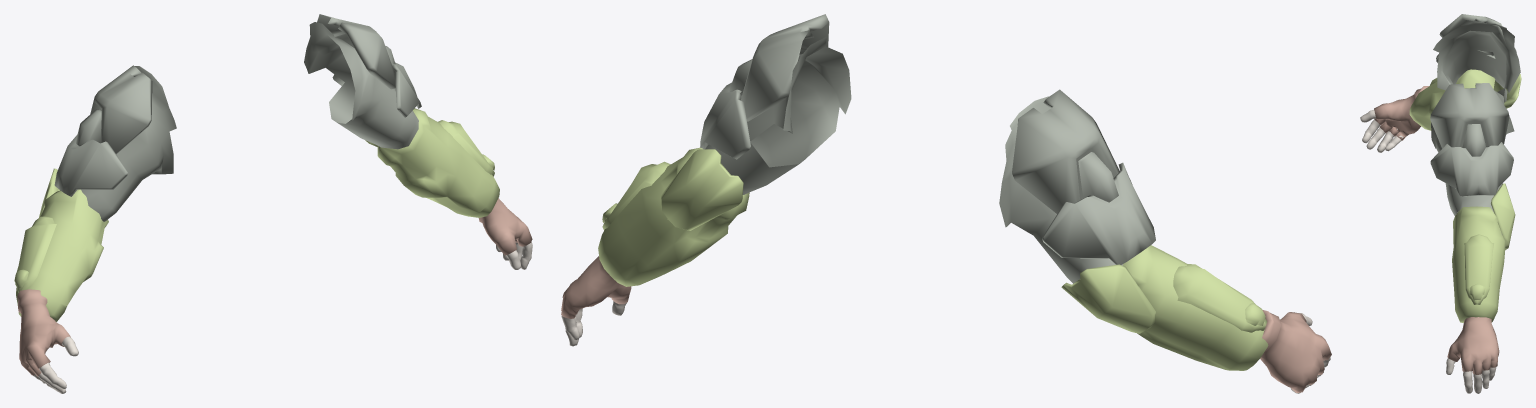
Rendered from JohnsonArms.fbx.
The picture shows the model from 3 angles, left to right: view 1: azimuth 30°, elevation 25°; view 2: azimuth 150°, elevation 25°; view 3: azimuth 270°, elevation 25°; orthographic projection. The views are drawn at different scales.
Visible parts, largest first — view 1: RightArm, LeftArm, RightForeArm, LeftForeArm, RightHand.001, LeftHand, LeftFingers; view 2: RightArm, LeftArm, RightForeArm, LeftForeArm, RightHand.001, LeftHand; view 3: LeftArm, LeftForeArm, RightArm, RightHand.001, LeftHand, RightForeArm, LeftFingers.
Part boxes in pixels (box(x1,y1,x2,y2)): RightArm: box(54, 65, 176, 221); LeftArm: box(304, 14, 421, 149); RightForeArm: box(14, 168, 108, 321); LeftForeArm: box(365, 108, 499, 217); RightHand.001: box(17, 289, 78, 393); LeftHand: box(478, 198, 532, 255); LeftFingers: box(496, 241, 532, 269); RightArm: box(999, 89, 1155, 283); LeftArm: box(700, 14, 851, 194); RightForeArm: box(1061, 245, 1268, 370); LeftForeArm: box(598, 147, 749, 286); RightHand.001: box(1260, 310, 1331, 393); LeftHand: box(561, 256, 631, 318); LeftArm: box(1430, 83, 1514, 234); LeftForeArm: box(1452, 183, 1515, 322); RightArm: box(1433, 14, 1520, 102); RightHand.001: box(1360, 86, 1429, 152); LeftHand: box(1447, 317, 1499, 374); RightForeArm: box(1409, 69, 1521, 130); LeftFingers: box(1446, 358, 1496, 393).
Size of the model in its own units: 126 by 64.45 by 39.57.
